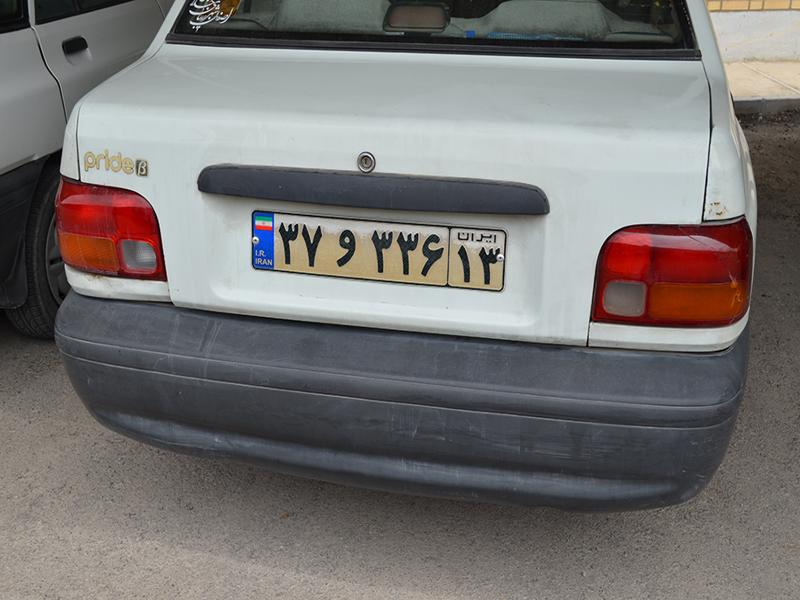Plate: (231, 191, 522, 307)
